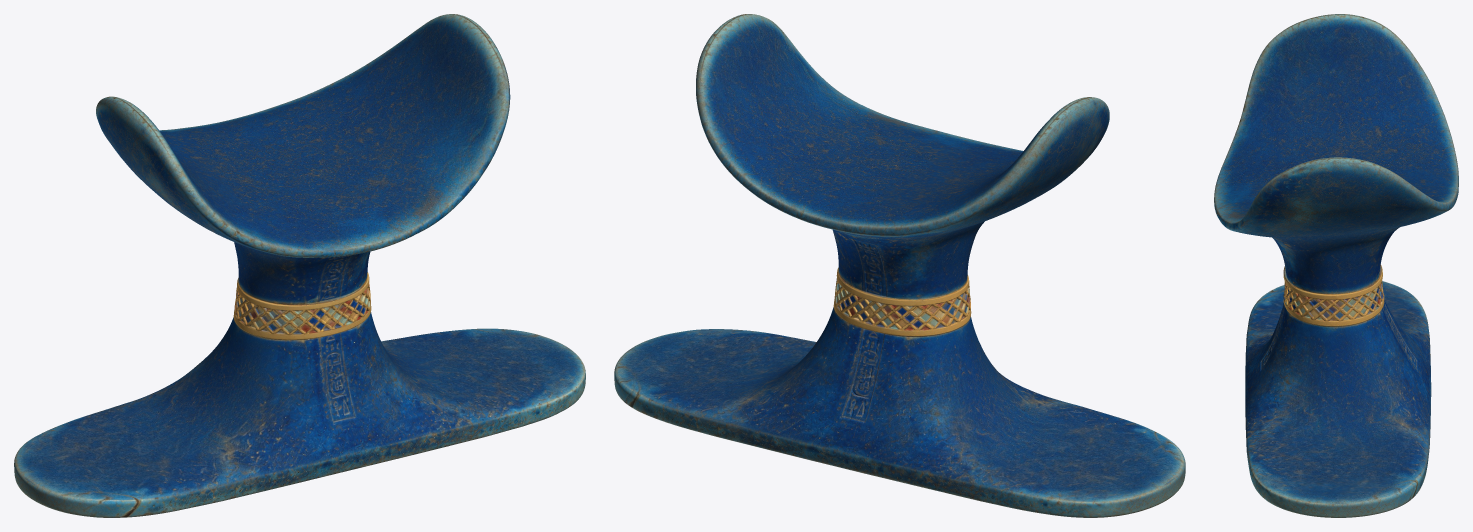
File: 403b-dark-blue-faience-headrest.glb
3 views of the same model, side by side, from view 1: azimuth 30°, elevation 25°; view 2: azimuth 150°, elevation 25°; view 3: azimuth 270°, elevation 25° (orthographic). The views are drawn at different scales.
Bounding box in the file's own units: 1.9 × 1.23 × 0.8586.
1 material, 1 textured.
